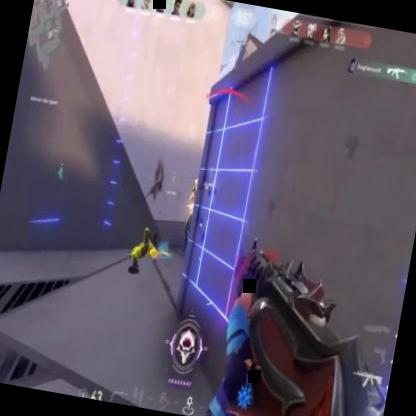enemy: (180, 177, 210, 256)
enemy_head: (192, 177, 204, 190)
